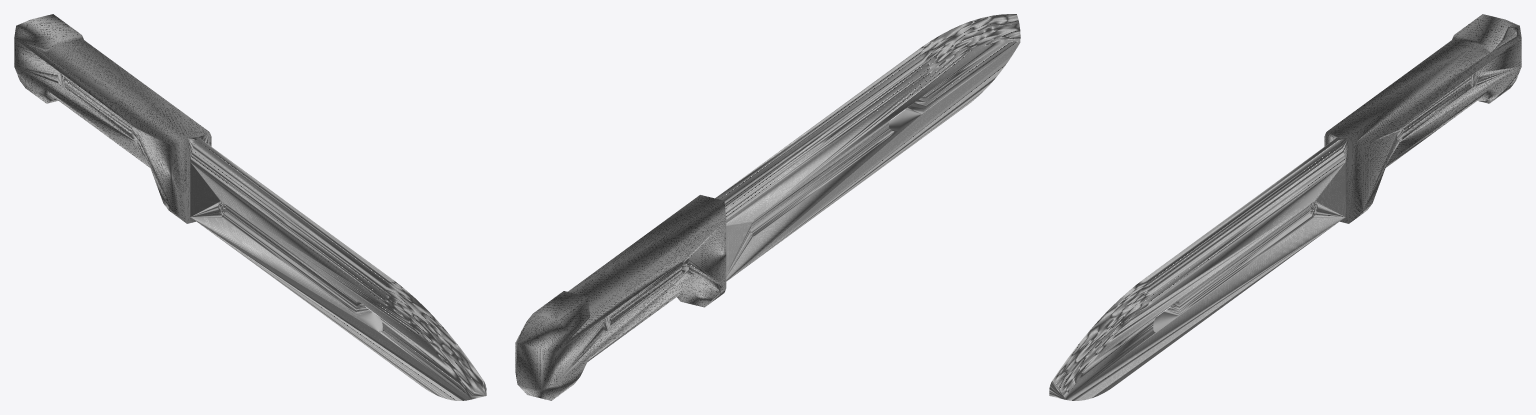
File: model_align.obj
3 views of the same model, side by side, from view 1: azimuth 30°, elevation 25°; view 2: azimuth 150°, elevation 25°; view 3: azimuth 330°, elevation 25° (orthographic). The views are drawn at different scales.
Size of the model in its own units: 0.0103 by 0.0228 by 0.2097.
6 materials, 6 textured.
